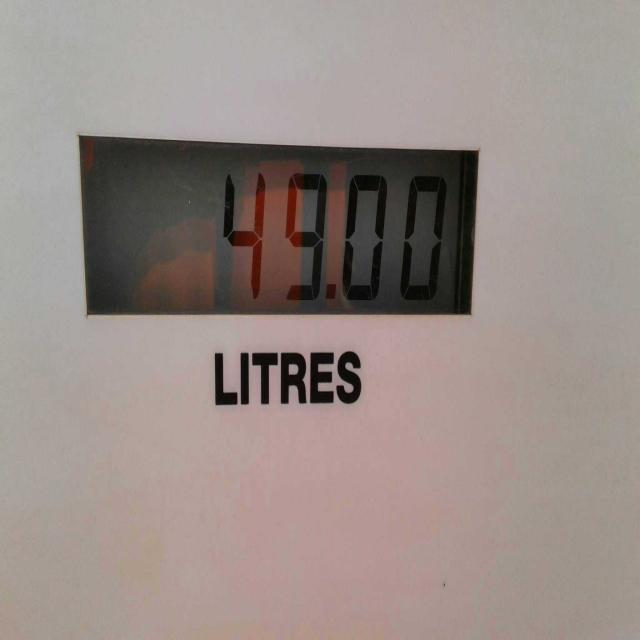.: (322, 276, 342, 318)
0: (334, 165, 396, 318), (394, 164, 453, 305)
4: (209, 167, 274, 306)
9: (268, 163, 327, 306)
